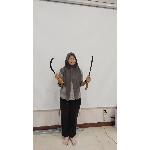Celurit: (46, 54, 66, 84)
Golok: (83, 55, 95, 89)
